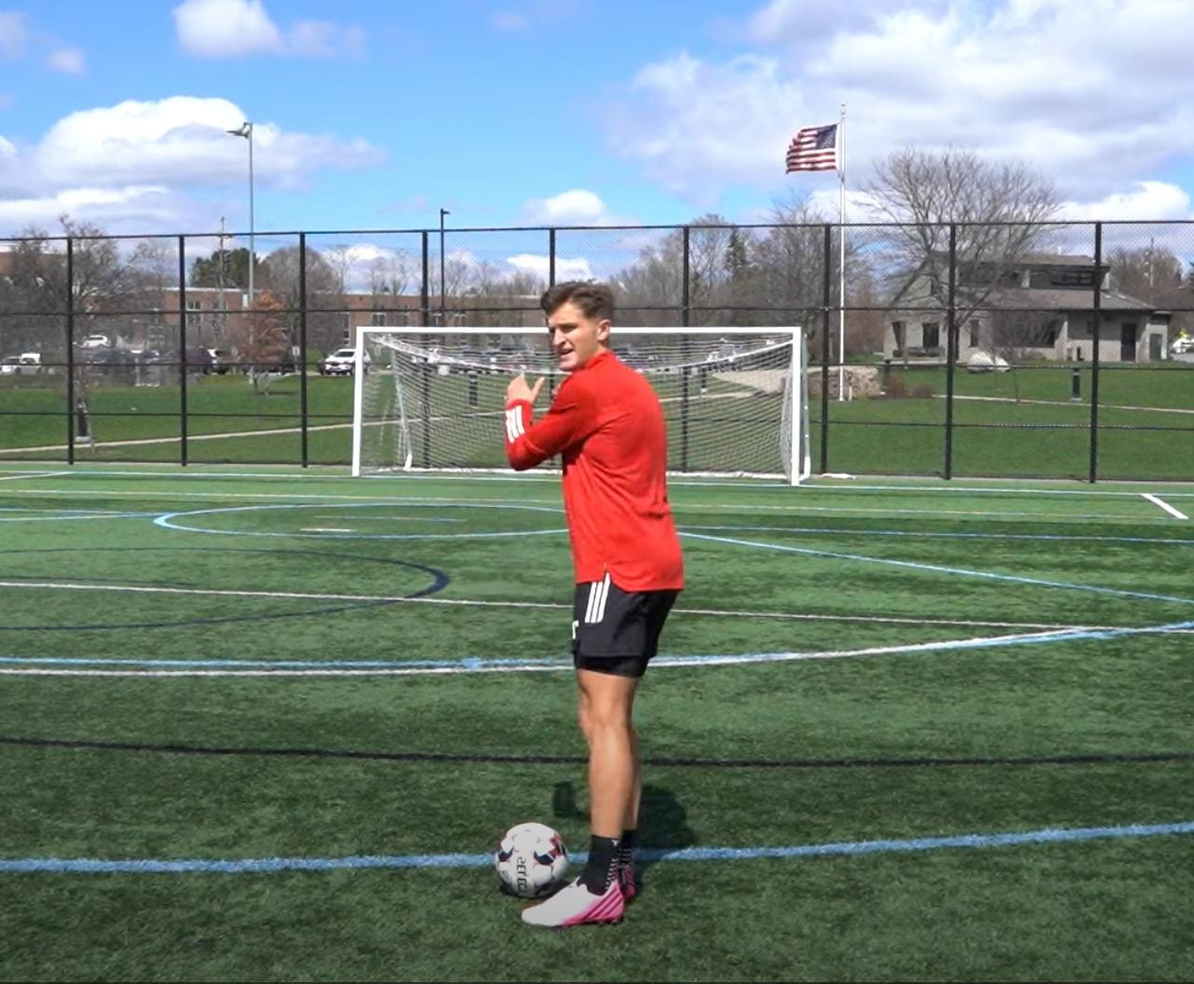ball: (498, 822, 567, 896)
foot: (518, 878, 626, 928)
person: (502, 278, 687, 929)
